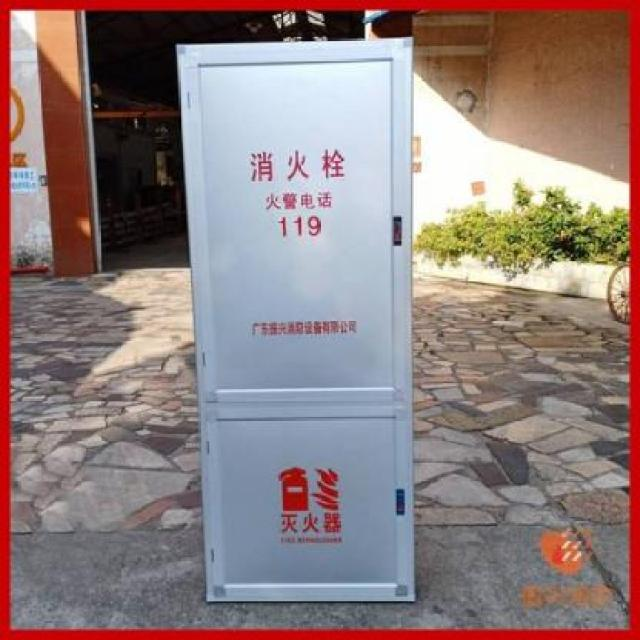firehydrant: (174, 31, 421, 607)
